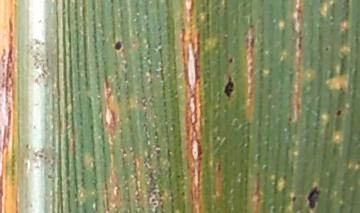tarspot: (304, 184, 322, 210), (222, 74, 234, 99), (113, 40, 123, 51), (334, 109, 343, 117), (227, 56, 234, 64), (290, 195, 297, 203), (216, 163, 222, 172), (324, 46, 329, 52), (287, 116, 293, 121)
